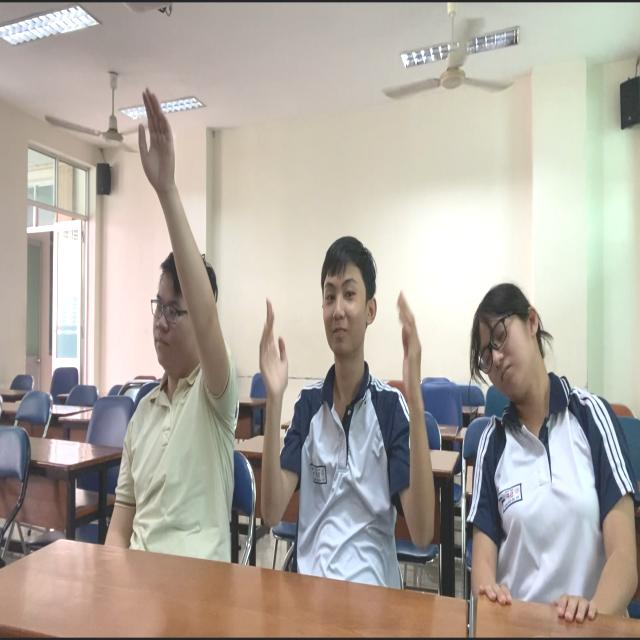raise_hand: (100, 106, 234, 555)
